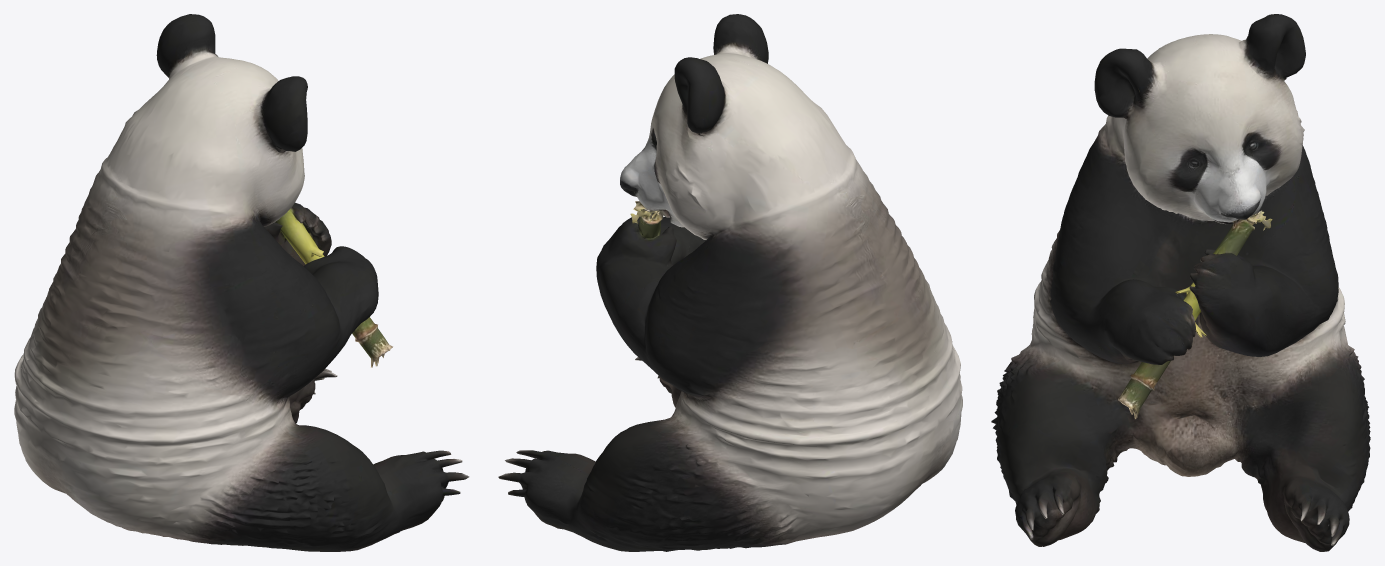
The model's file is day4.glb.
3 views of the same model, side by side, from view 1: azimuth 30°, elevation 25°; view 2: azimuth 150°, elevation 25°; view 3: azimuth 270°, elevation 25° (orthographic). The views are drawn at different scales.
Visible parts, largest first — view 1: tripo_node_c080e60a-02ff-4c49-8fcc-ff59df812363; view 2: tripo_node_c080e60a-02ff-4c49-8fcc-ff59df812363; view 3: tripo_node_c080e60a-02ff-4c49-8fcc-ff59df812363.
Boxes of the visible parts, x1,y1,x2,y2 form: tripo_node_c080e60a-02ff-4c49-8fcc-ff59df812363: (14,14,469,551); tripo_node_c080e60a-02ff-4c49-8fcc-ff59df812363: (498,14,962,551); tripo_node_c080e60a-02ff-4c49-8fcc-ff59df812363: (991,14,1370,551).
Bounding box in the file's own units: 0.7981 × 1 × 0.7108.
1 material, 1 textured.
